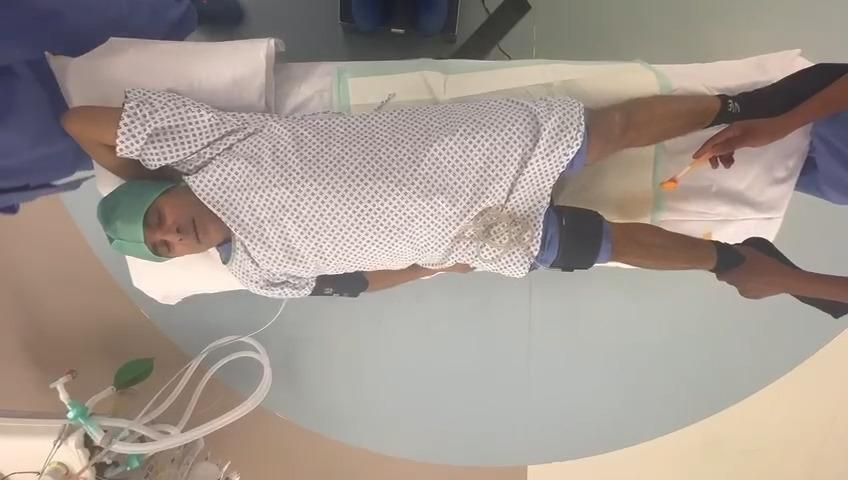patient: (63, 65, 848, 306)
prepstick: (659, 155, 711, 191)
tourniquet: (550, 205, 606, 272)
